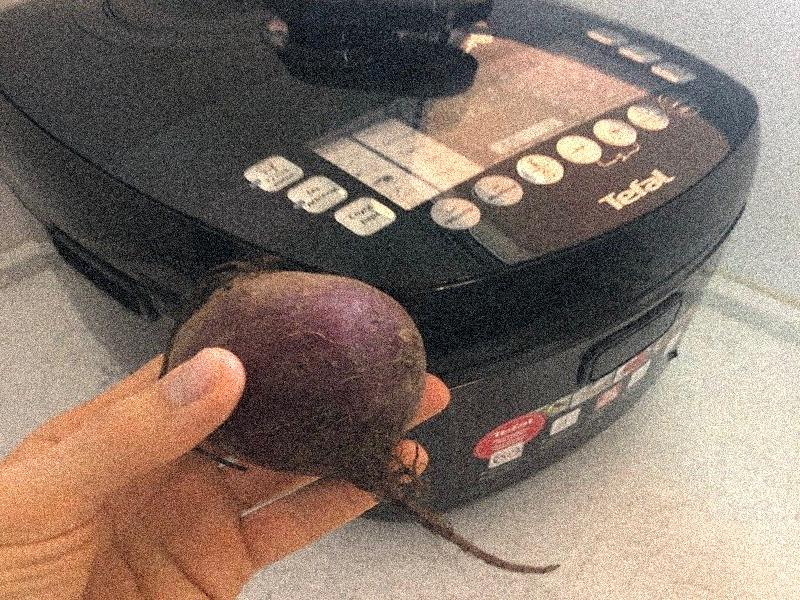Beet: (162, 258, 558, 572)
